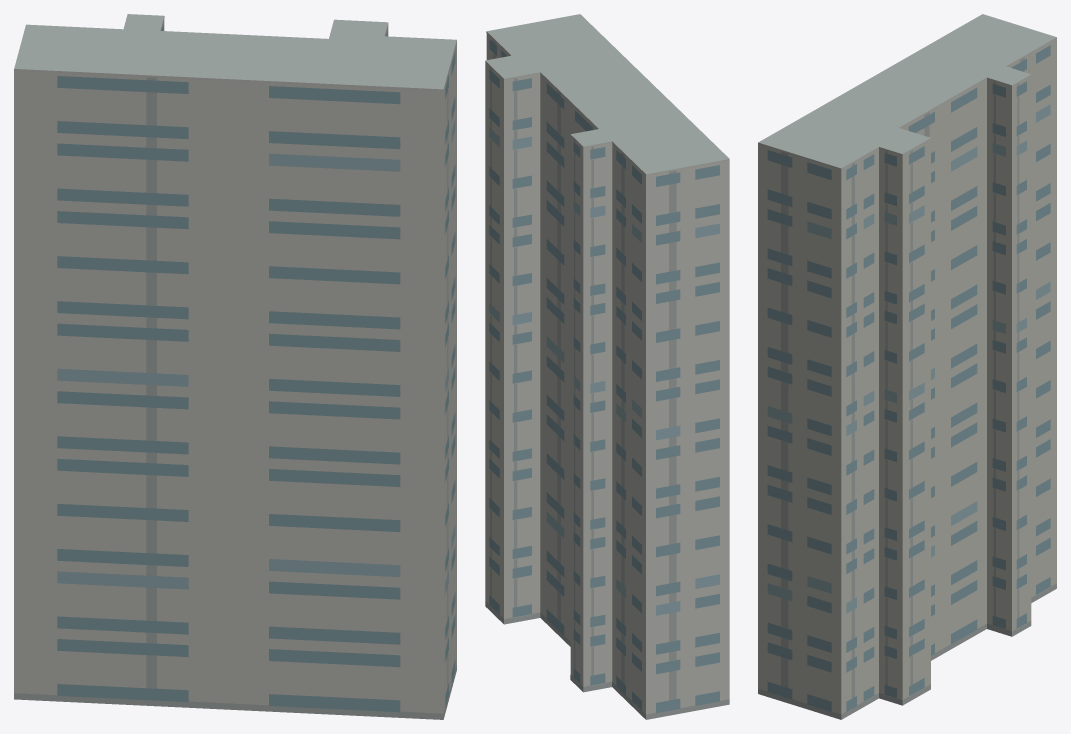
Rendered from residential-88766abc-7b0b-4478-99ad-f72bc987ce9e.glb.
The picture shows the model from 3 angles, left to right: view 1: azimuth 30°, elevation 25°; view 2: azimuth 150°, elevation 25°; view 3: azimuth 270°, elevation 25°; orthographic projection. The views are drawn at different scales.
Visible parts, largest first — view 1: residential-88766abc-7b0b-4478-99ad-f72bc987ce9e.tmp; view 2: residential-88766abc-7b0b-4478-99ad-f72bc987ce9e.tmp; view 3: residential-88766abc-7b0b-4478-99ad-f72bc987ce9e.tmp.
Part boxes in pixels (x1=…): residential-88766abc-7b0b-4478-99ad-f72bc987ce9e.tmp: x1=14, y1=14, x2=456, y2=719; residential-88766abc-7b0b-4478-99ad-f72bc987ce9e.tmp: x1=485, y1=14, x2=729, y2=719; residential-88766abc-7b0b-4478-99ad-f72bc987ce9e.tmp: x1=758, y1=14, x2=1056, y2=719.
Size of the model in its own units: 46.86 by 78 by 38.3.
